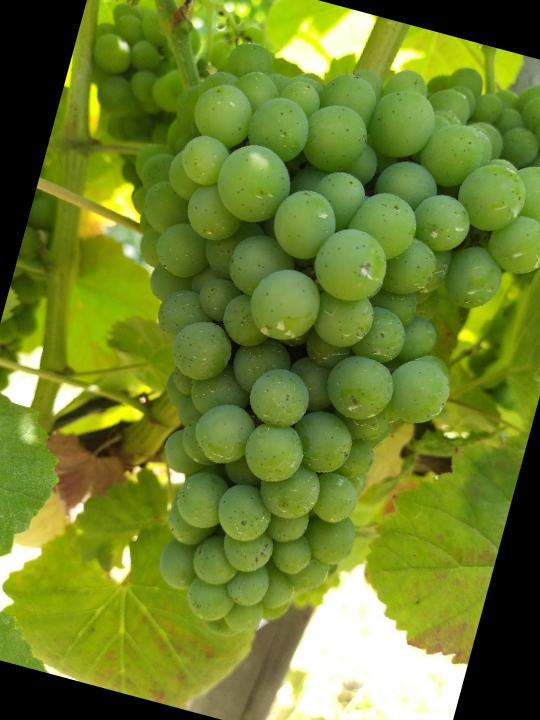grape: (33, 12, 540, 688)
